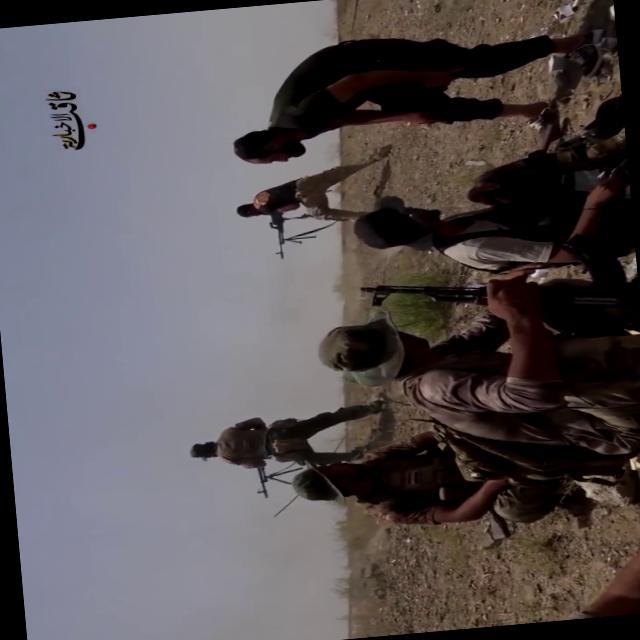long weapon: (343, 253, 638, 342), (256, 209, 323, 270), (240, 454, 312, 504)
